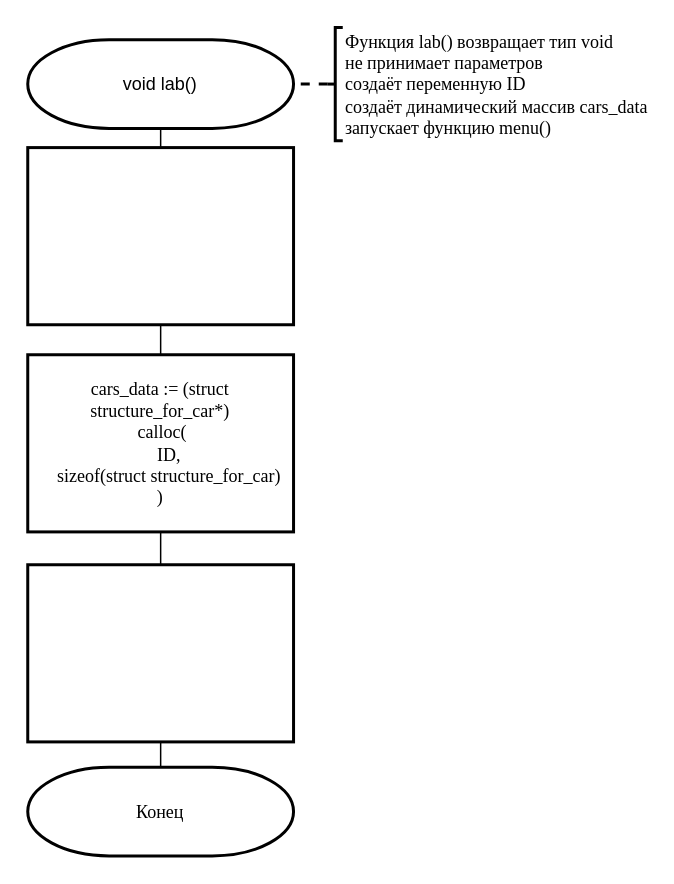
The diagram is 674 pixels wide and 884 high, and some of its shapes have lost their labels. Each missing label, with the centre of its shape:
"ID:= 0" goes at point (160, 235).
"menu(ID, cars_data)" goes at point (160, 652).
